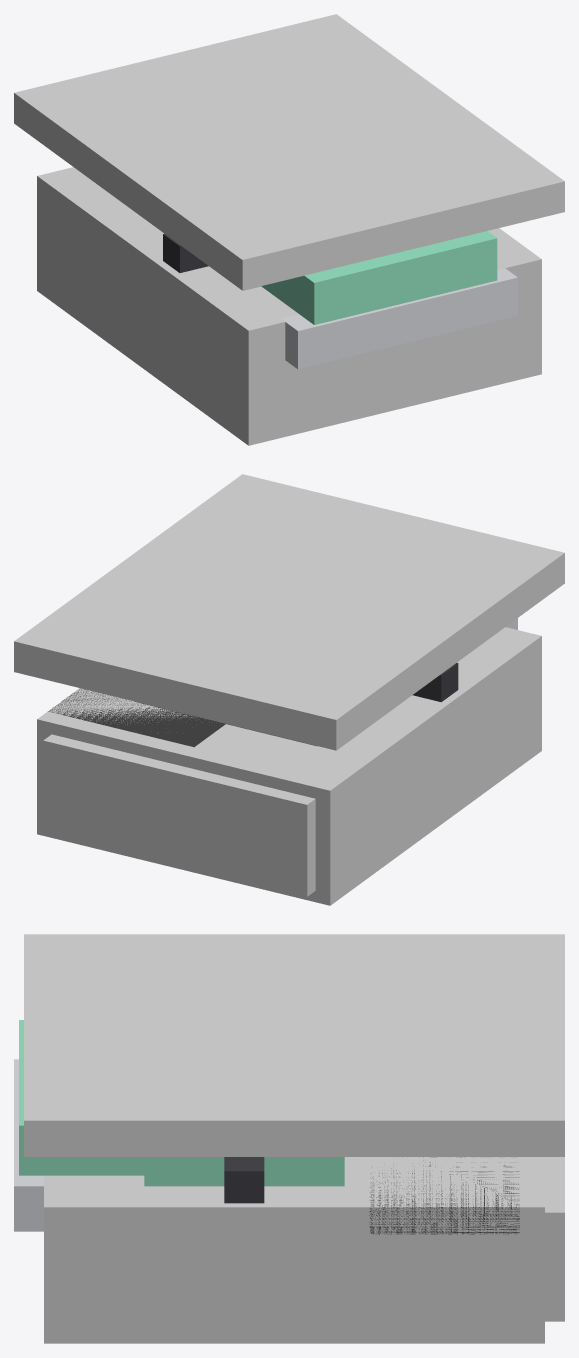
File: vmu.gltf
3 renders of one model, top to bottom at view 1: azimuth 30°, elevation 25°; view 2: azimuth 150°, elevation 25°; view 3: azimuth 270°, elevation 25°, orthographic. The views are drawn at different scales.
Visible parts, largest first — view 1: vmu; view 2: vmu; view 3: vmu.
Part boxes in pixels (left/top/right/bottom): vmu: left=14, top=14, right=564, bottom=445; vmu: left=14, top=474, right=564, bottom=905; vmu: left=14, top=934, right=564, bottom=1343.
Size of the model in its own units: 0.044 by 0.0255 by 0.055.
